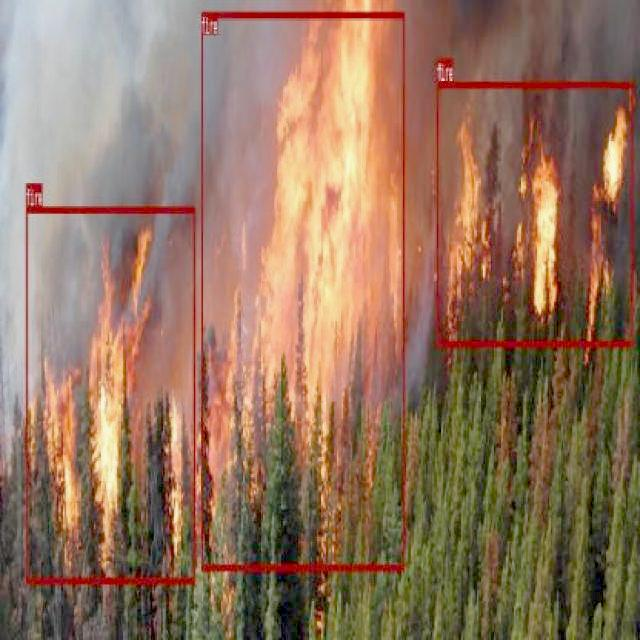fire: (200, 10, 405, 570), (26, 205, 194, 582), (436, 80, 633, 346)
